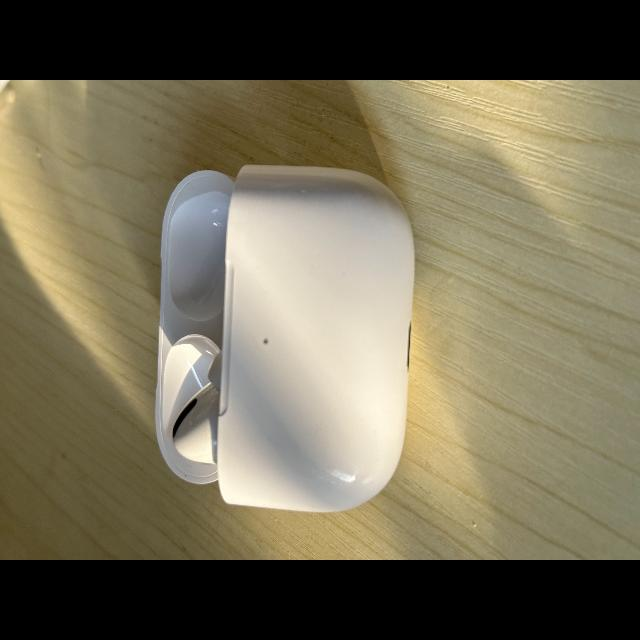AirPods Pro: (155, 165, 414, 512)
